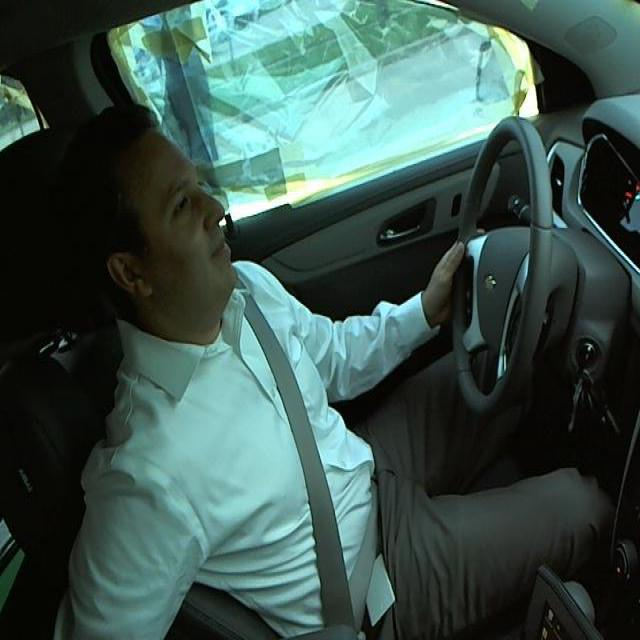seatbelt: (237, 316, 401, 612)
